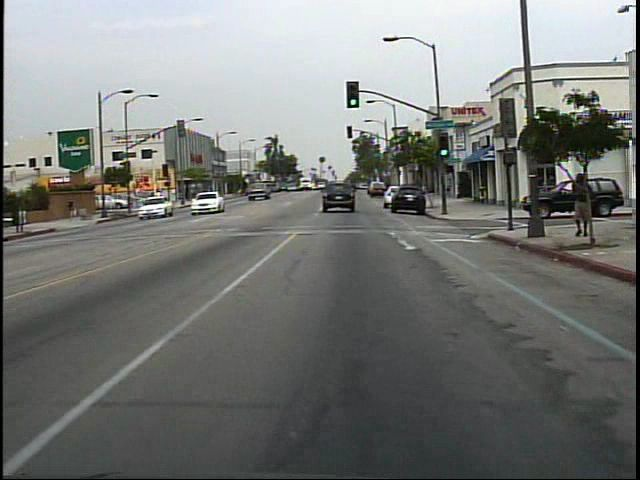person: (568, 167, 594, 244), (66, 193, 85, 222), (152, 185, 169, 210)
